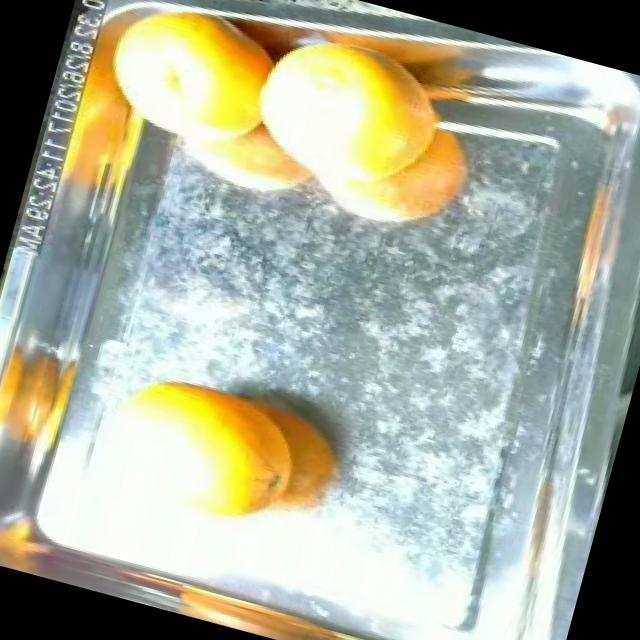Fruit: (0, 324, 87, 464)
